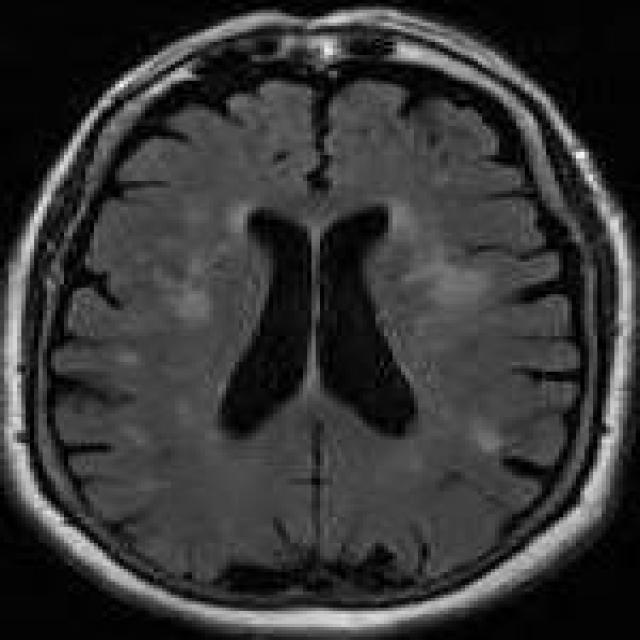no-tumor: (104, 160, 516, 475)
